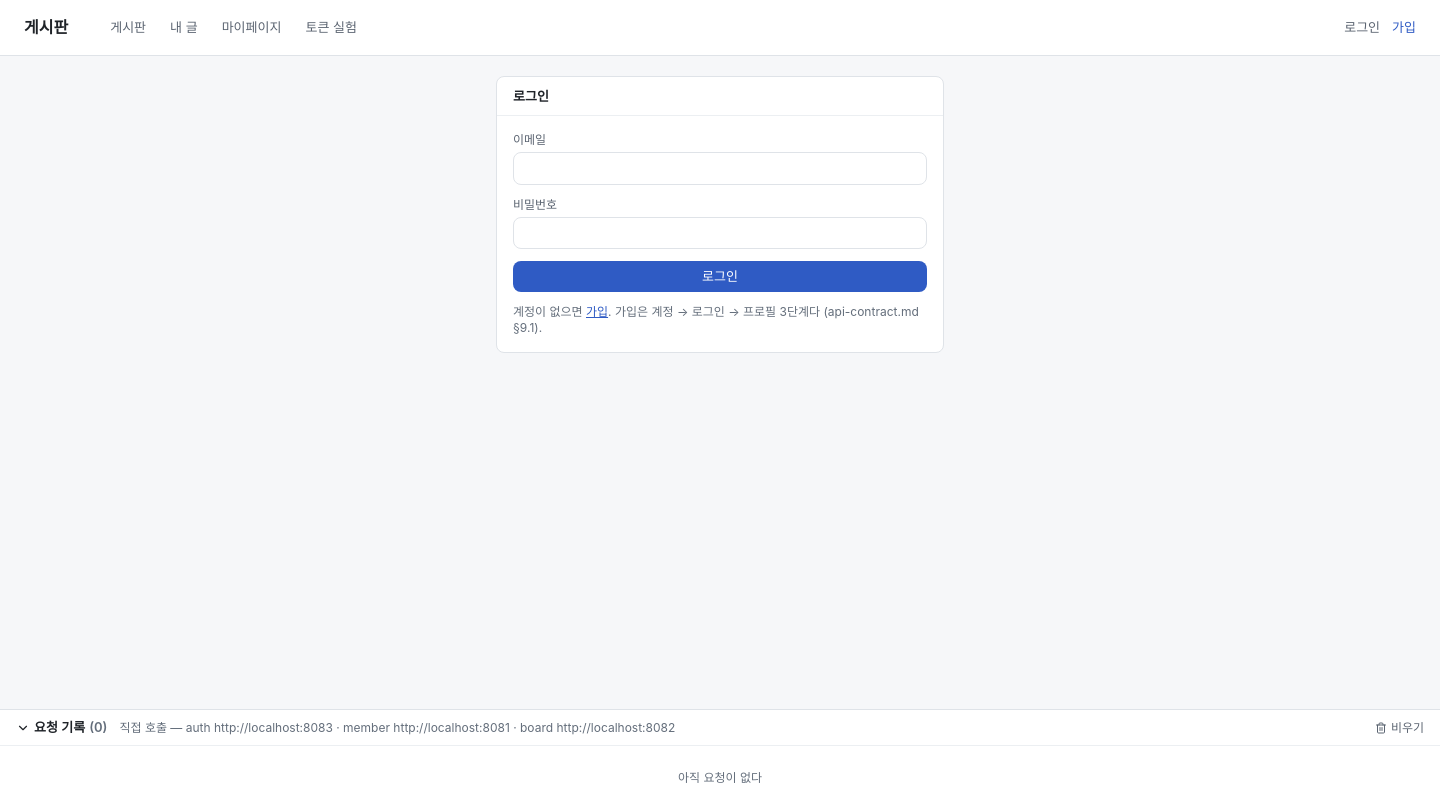
Test case: 되살리는 창의 로그인 › 늦게 끝난 재발급이 거부되어도 새 로그인의 토큰이 남는다
The image size is (1440, 810).
Type "user@example.com" into the field labelled "이메일" at (720, 168), box top-left (513, 152), bottom-right (927, 185)
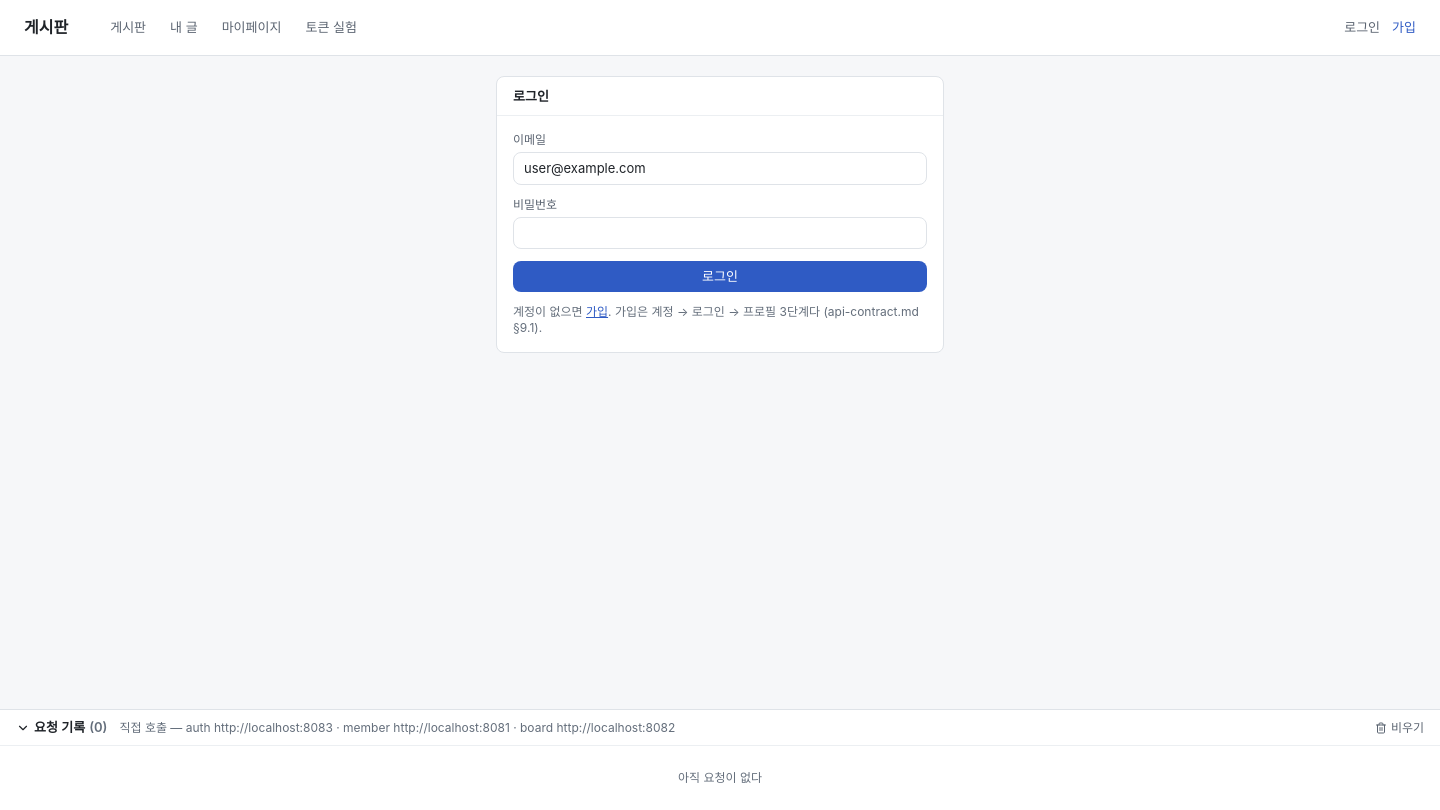
Type "password" into the password field labelled "비밀번호" at (720, 233), box top-left (513, 217), bottom-right (927, 249)
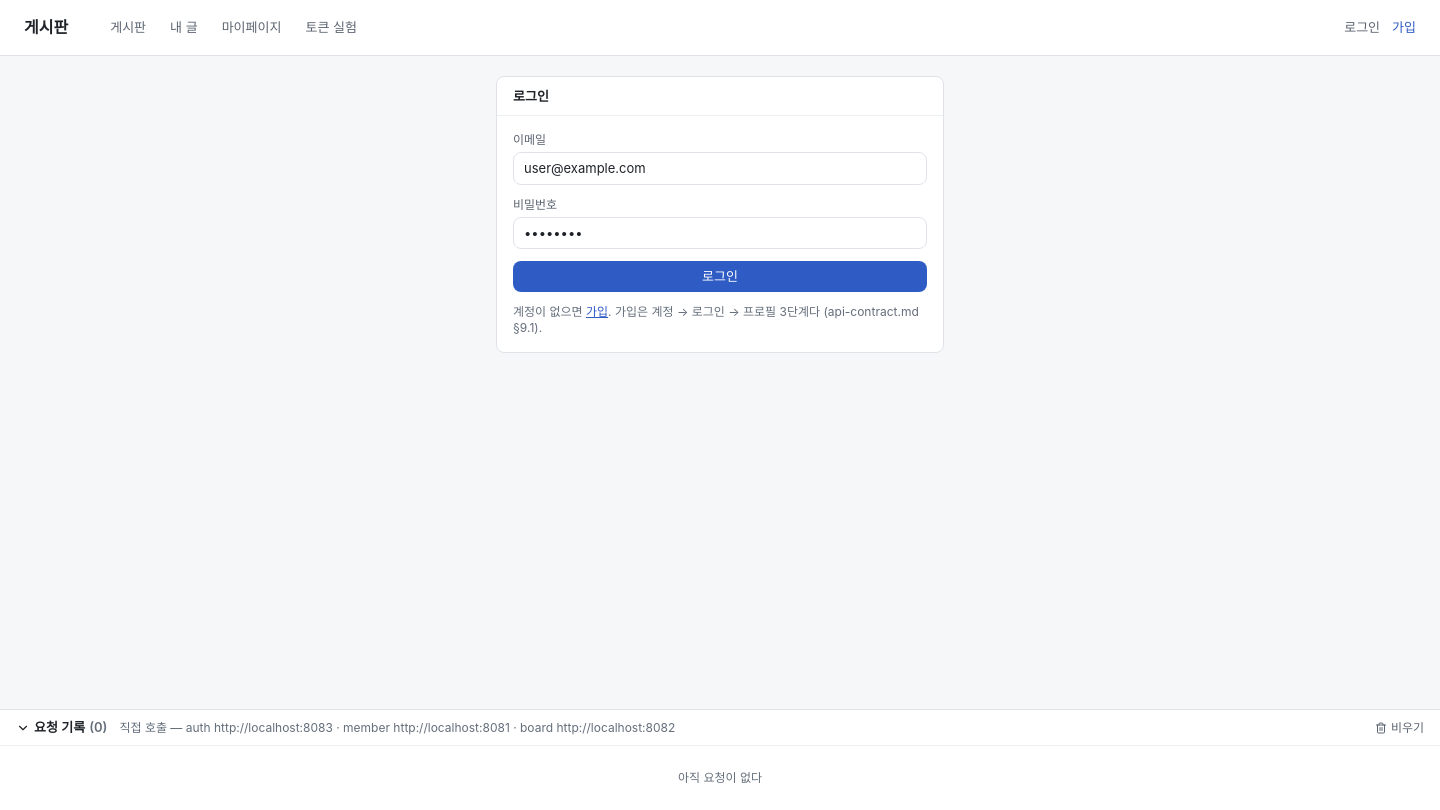
Click the button "로그인" at (720, 277), box top-left (513, 261), bottom-right (927, 292)
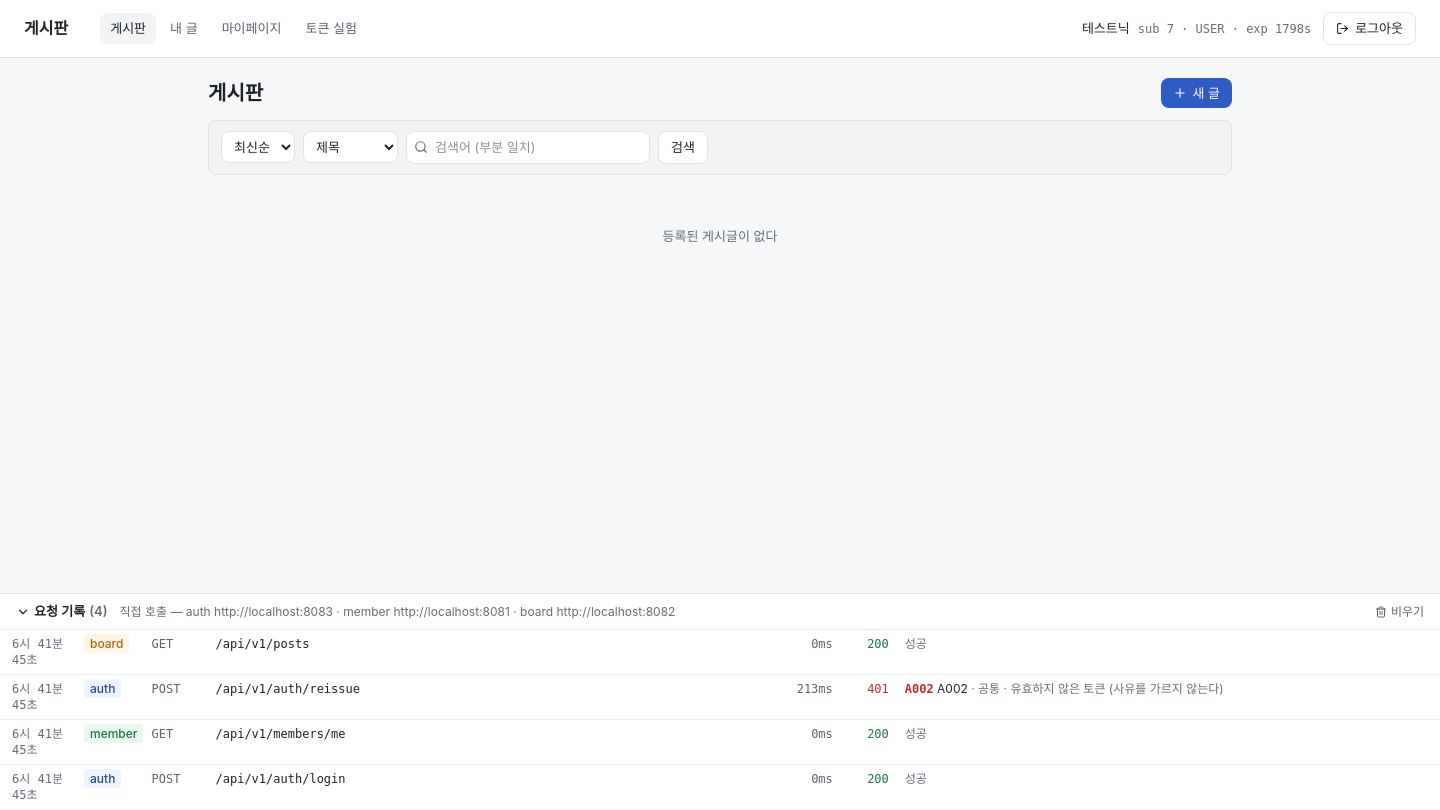
Check: the button "로그아웃" is shown, box top-left (1323, 12), bottom-right (1416, 45)
